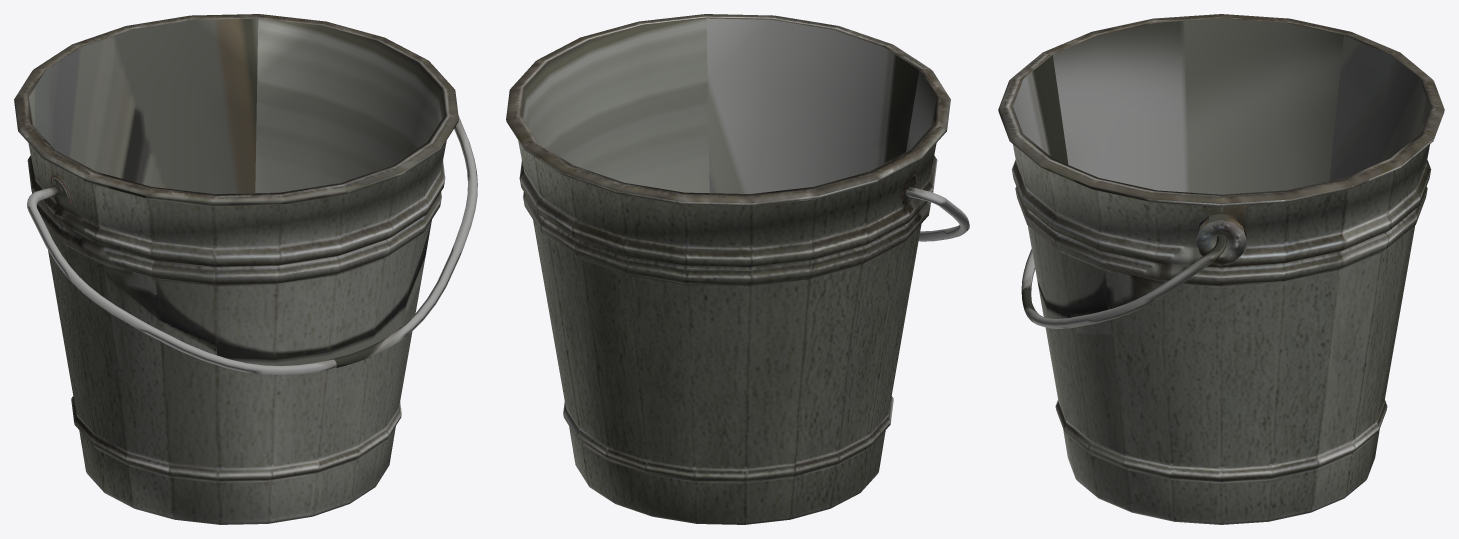
File: Bucket.glb
3 views of the same model, side by side, from view 1: azimuth 30°, elevation 25°; view 2: azimuth 150°, elevation 25°; view 3: azimuth 270°, elevation 25° (orthographic).
Parts seen in each view (by area): view 1: Mesh.003, Mesh.001, Mesh; view 2: Mesh.003, Mesh.001; view 3: Mesh.003, Mesh, Mesh.002.
Part boxes in pixels (<box>): Mesh.003: <box>14,14,458,524</box>; Mesh.001: <box>27,186,336,375</box>; Mesh: <box>333,116,477,367</box>; Mesh.003: <box>506,14,950,524</box>; Mesh.001: <box>906,186,969,241</box>; Mesh.003: <box>998,14,1444,524</box>; Mesh: <box>1021,234,1226,328</box>; Mesh.002: <box>1196,214,1246,264</box>.
Bounding box in the file's own units: 56.54 × 45.04 × 51.33.
Materials: 1 (1 with a texture image).
